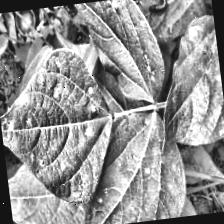Bean Rust: (0, 44, 118, 206), (66, 102, 184, 224), (63, 0, 167, 110), (146, 11, 224, 157)
